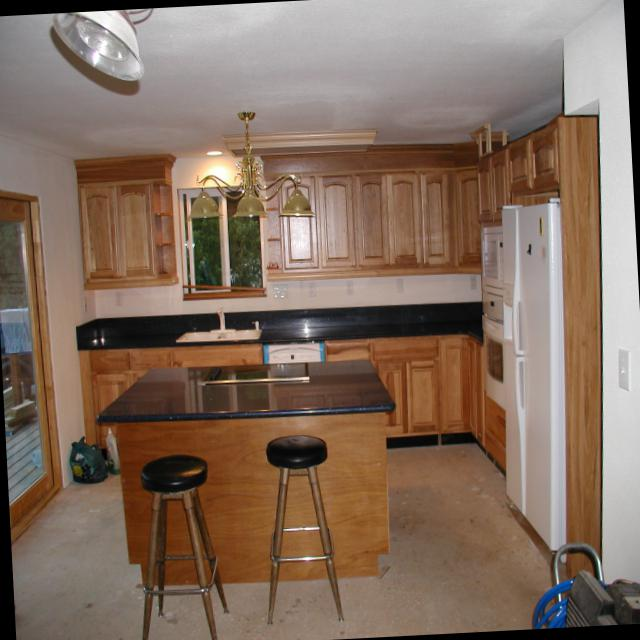2001: (176, 190, 262, 295)
bag occluded: (71, 436, 106, 480)
cabinets: (469, 111, 602, 580), (264, 156, 479, 278), (324, 334, 504, 474), (79, 343, 263, 444), (76, 155, 175, 289)
ceiling vent: (52, 10, 145, 82), (220, 129, 380, 159), (206, 148, 223, 156)
chandelier: (192, 112, 318, 221)
counter: (75, 300, 481, 350)
countertop: (98, 360, 394, 418)
dishsoap: (105, 430, 119, 473)
dishwasher: (263, 342, 326, 362)
electrical outlet: (346, 281, 354, 295), (469, 275, 477, 288), (309, 280, 315, 296), (116, 293, 121, 307)
eye: (266, 260, 278, 268)
faucet handle: (216, 304, 225, 328)
floor -X: (12, 445, 554, 640)
island counter: (116, 414, 390, 585)
light switch: (619, 350, 628, 388), (395, 278, 404, 291), (83, 295, 87, 309)
microwave oven: (481, 233, 502, 287)
oven cloth: (482, 287, 505, 412)
pressure washer -X: (531, 545, 640, 625)
refigetator: (501, 196, 567, 564)
sink basin: (177, 329, 262, 340)
sliding glass door: (0, 198, 53, 525)
soap: (250, 320, 258, 329)
stack of wook: (6, 402, 37, 434)
stool crop: (140, 454, 232, 640), (265, 432, 344, 620)
stovetop: (200, 361, 308, 382)
wall clock: (0, 135, 481, 489), (564, 0, 640, 582)
